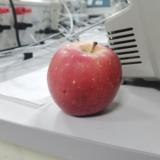apple: (48, 42, 122, 116)
